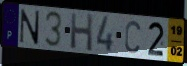2: (147, 21, 165, 57)
3: (44, 9, 63, 49)
4: (95, 15, 115, 54)
C: (124, 19, 142, 55)
H: (70, 11, 94, 53)
N: (18, 9, 41, 47)
